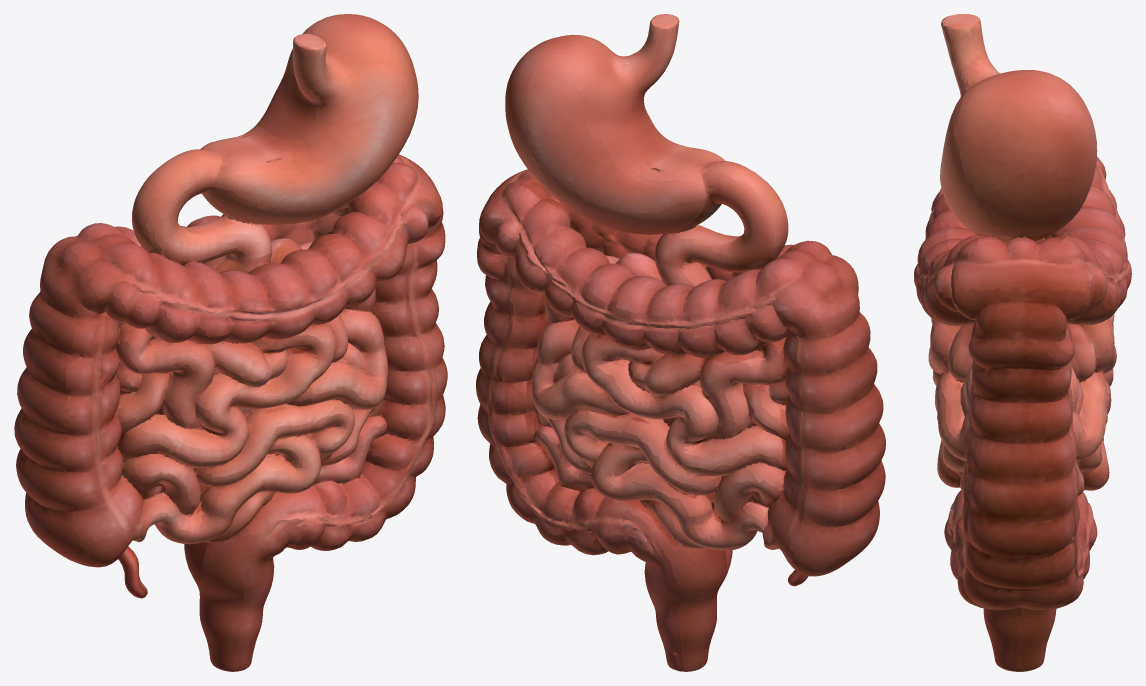
The picture shows the model from 3 angles, left to right: view 1: azimuth 30°, elevation 25°; view 2: azimuth 150°, elevation 25°; view 3: azimuth 270°, elevation 25°; orthographic projection. The views are drawn at different scales.
Parts seen in each view (by area): view 1: geometry_0; view 2: geometry_0; view 3: geometry_0.
Boxes of the visible parts, x1=… form: geometry_0: x1=14, y1=14, x2=447, y2=671; geometry_0: x1=476, y1=14, x2=885, y2=671; geometry_0: x1=914, y1=14, x2=1131, y2=671.
Size of the model in its own units: 0.6732 by 1 by 0.295.
1 material, 1 textured.
